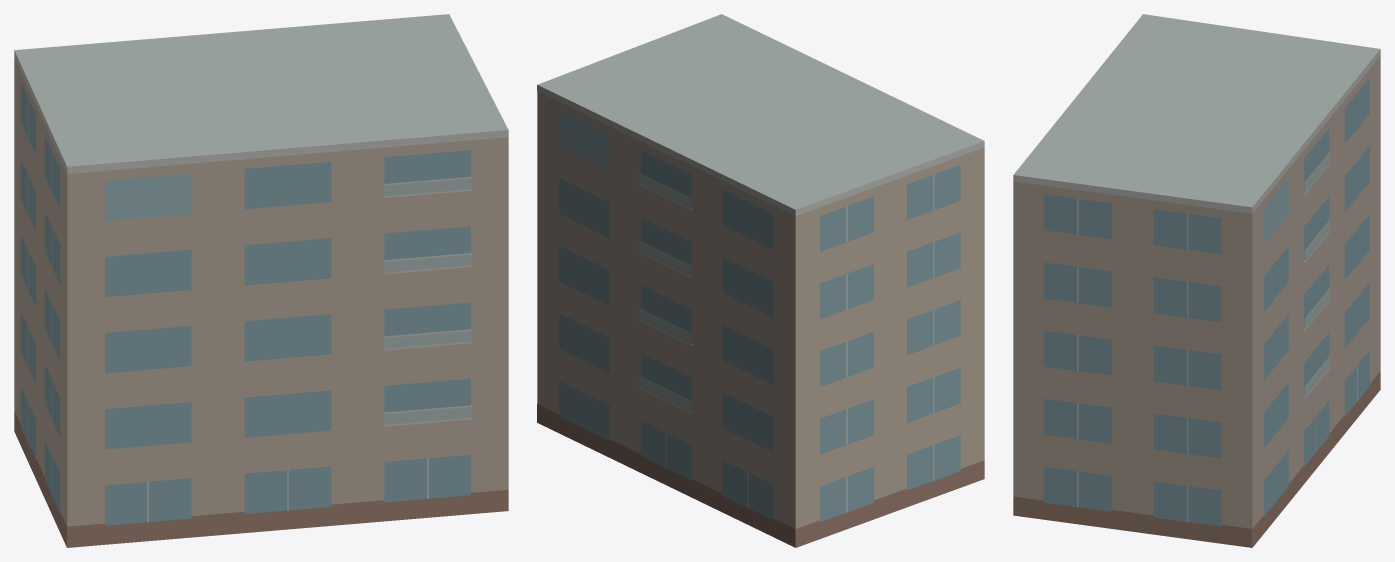
Rendered from survey-upis-32993558.glb.
3 views of the same model, side by side, from view 1: azimuth 30°, elevation 25°; view 2: azimuth 150°, elevation 25°; view 3: azimuth 270°, elevation 25° (orthographic). The views are drawn at different scales.
Visible parts, largest first — view 1: survey-upis-32993558.tmp; view 2: survey-upis-32993558.tmp; view 3: survey-upis-32993558.tmp.
Part boxes in pixels (x1=…): survey-upis-32993558.tmp: x1=14, y1=14, x2=508, y2=547; survey-upis-32993558.tmp: x1=537, y1=14, x2=984, y2=547; survey-upis-32993558.tmp: x1=1013, y1=14, x2=1380, y2=547.
Size of the model in its own units: 15.9 by 13.05 by 12.77.
